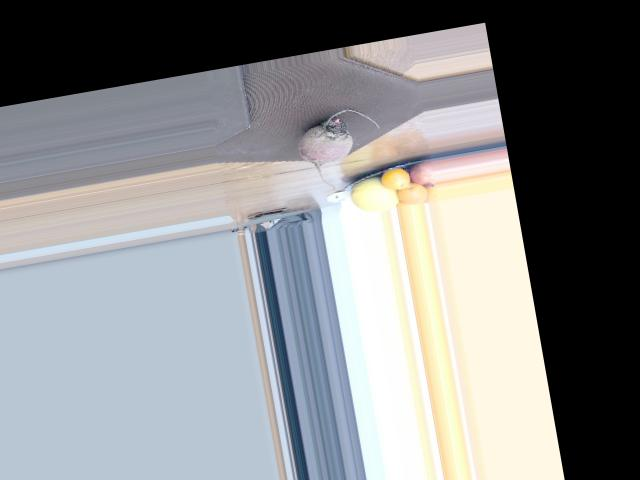beet: (292, 104, 388, 191)
